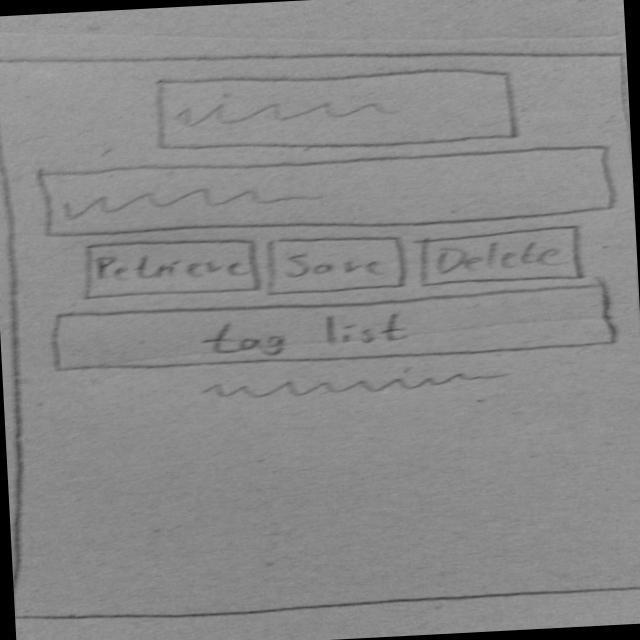button: (51, 282, 622, 378), (79, 232, 267, 307), (415, 223, 598, 296), (262, 236, 412, 297)
container: (1, 11, 640, 633)
input: (26, 136, 636, 249), (136, 57, 539, 162)
text: (181, 357, 524, 413)
